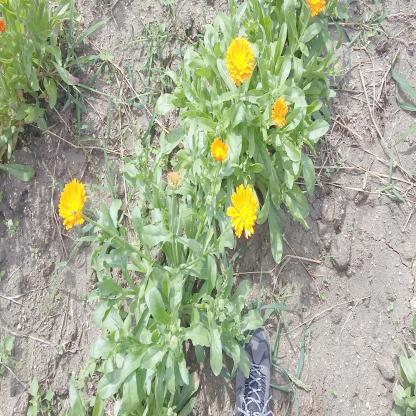marigold: (228, 184, 256, 233), (58, 177, 85, 226), (226, 39, 253, 79), (272, 99, 286, 123)
